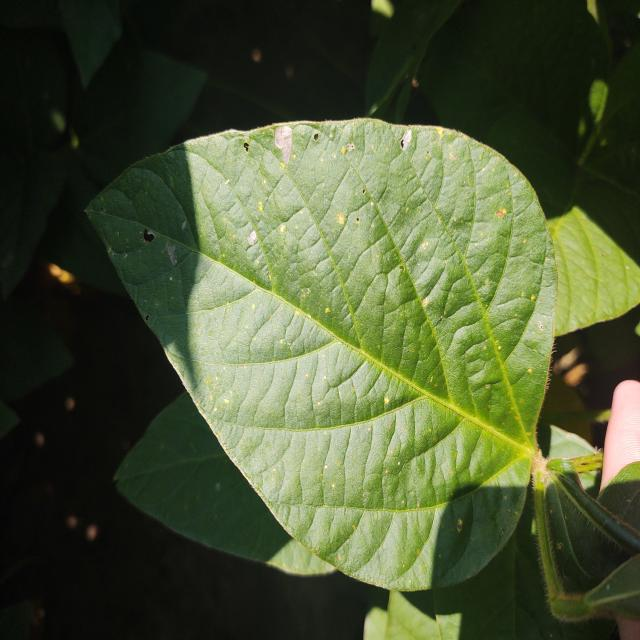Deficiency Leaf: (331, 138, 453, 387), (435, 147, 536, 440), (256, 397, 448, 523), (429, 433, 538, 589), (269, 193, 390, 303), (119, 442, 245, 545), (192, 328, 298, 443), (221, 150, 287, 312), (184, 64, 330, 133), (107, 249, 194, 363), (339, 497, 445, 590), (173, 152, 237, 268), (88, 206, 196, 272), (551, 207, 604, 327), (540, 466, 590, 588), (40, 27, 86, 152), (368, 40, 429, 123), (122, 449, 228, 481), (579, 150, 640, 202)
Soybean: (81, 117, 640, 640)
